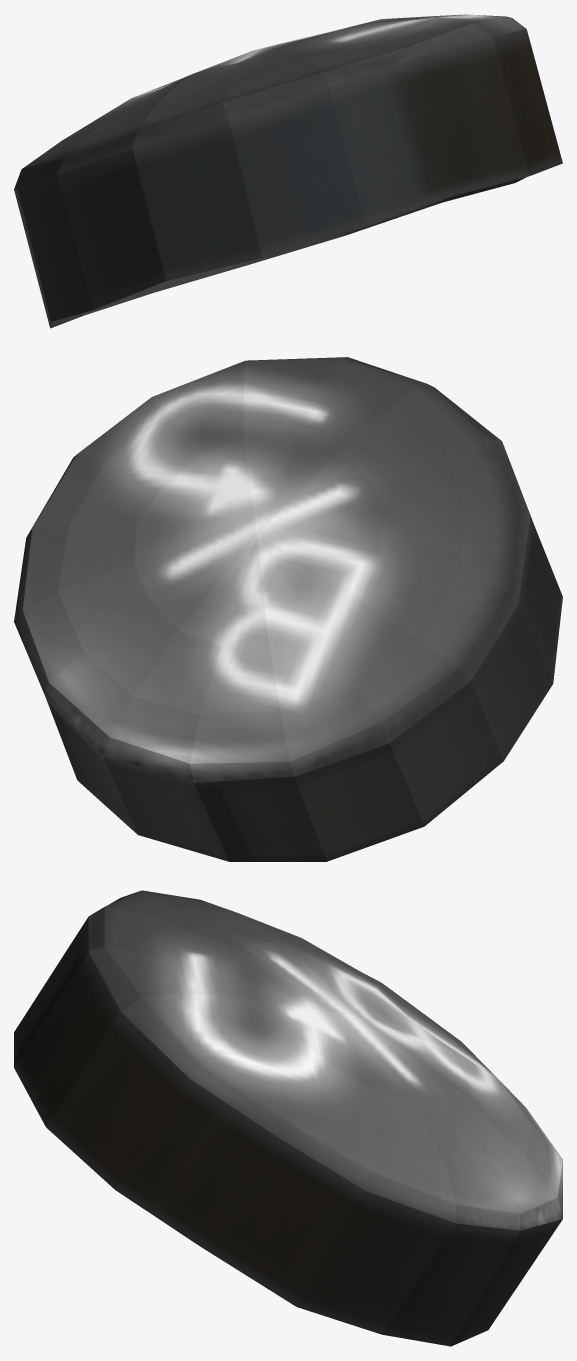
Rendered from YVR_d3_right_Bbutton.obj.
3 renders of one model, top to bottom at view 1: azimuth 30°, elevation 25°; view 2: azimuth 150°, elevation 25°; view 3: azimuth 270°, elevation 25°, orthographic. The views are drawn at different scales.
Parts seen in each view (by area): view 1: yvr_d3_right_Bbutton; view 2: yvr_d3_right_Bbutton; view 3: yvr_d3_right_Bbutton.
Boxes of the visible parts, x1,y1,x2,y2 form: yvr_d3_right_Bbutton: [14, 14, 562, 328]; yvr_d3_right_Bbutton: [14, 357, 562, 861]; yvr_d3_right_Bbutton: [14, 890, 562, 1346].
Size of the model in its own units: 0.0104 by 0.0078 by 0.0103.
Materials: 1 (1 with a texture image).
